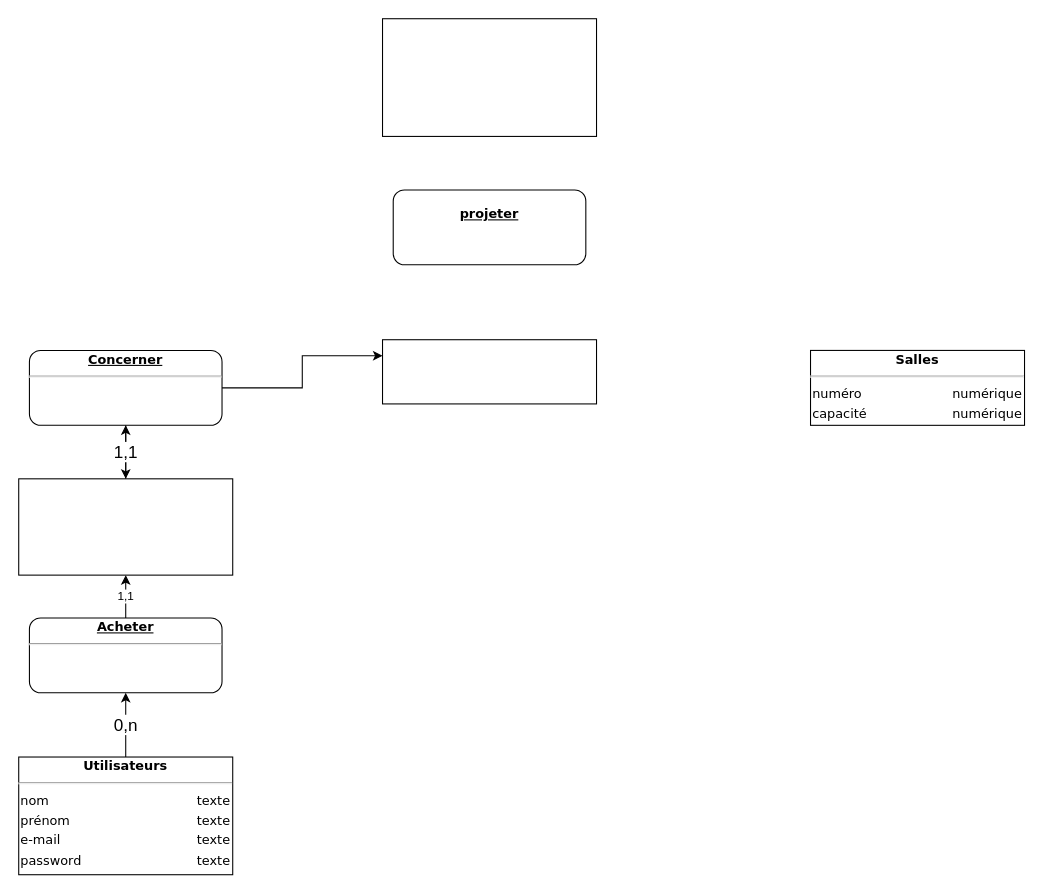
This 1043x893 diagram has some shape labels left out. Here are the shapes that lost their labels. From the top down, the centre of each, then its label:
point 489,77: Films nom texte genre texte durée numérique date de sortie date
point 489,371: Projection horaires date/heure
point 125,526: Tickets type numérique prix numérique numero de place numérique
